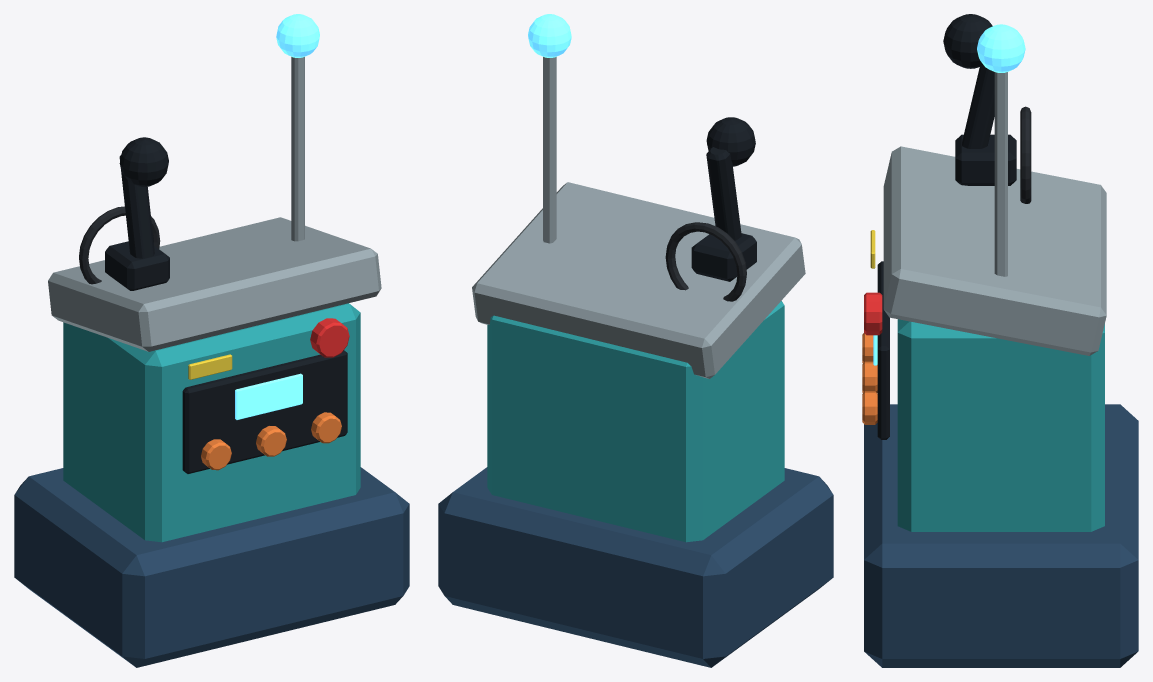
Rendered from helm-radio-task-console.glb.
3 renders of one model, left to right at view 1: azimuth 30°, elevation 25°; view 2: azimuth 150°, elevation 25°; view 3: azimuth 270°, elevation 25°, orthographic. The views are drawn at different scales.
Parts seen in each view (by area): view 1: LP_HELM_CONSOLE_BASE, LP_HELM_CONSOLE_PEDESTAL, LP_HELM_CONSOLE_SLOPED_PANEL, LP_HELM_CONSOLE_RADIO_PANEL, LP_HELM_CONSOLE_MAST, LP_HELM_CONSOLE_MIC_DOCK, LP_HELM_CONSOLE_RADIO_SCREEN, LP_HELM_CONSOLE_MIC_HANDLE, LP_HELM_CONSOLE_MIC_HEAD, LP_HELM_CONSOLE_MAST_LAMP, LP_HELM_CONSOLE_TASK_BUTTON, LP_HELM_CONSOLE_MIC_CABLE (+4 smaller); view 2: LP_HELM_CONSOLE_PEDESTAL, LP_HELM_CONSOLE_BASE, LP_HELM_CONSOLE_SLOPED_PANEL, LP_HELM_CONSOLE_MAST, LP_HELM_CONSOLE_MIC_HANDLE, LP_HELM_CONSOLE_MIC_DOCK, LP_HELM_CONSOLE_MIC_CABLE, LP_HELM_CONSOLE_MIC_HEAD, LP_HELM_CONSOLE_MAST_LAMP; view 3: LP_HELM_CONSOLE_BASE, LP_HELM_CONSOLE_PEDESTAL, LP_HELM_CONSOLE_SLOPED_PANEL, LP_HELM_CONSOLE_MAST, LP_HELM_CONSOLE_MIC_DOCK, LP_HELM_CONSOLE_MIC_HANDLE, LP_HELM_CONSOLE_MAST_LAMP, LP_HELM_CONSOLE_MIC_HEAD, LP_HELM_CONSOLE_RADIO_PANEL, LP_HELM_CONSOLE_MIC_CABLE, LP_HELM_CONSOLE_TASK_BUTTON, LP_HELM_CONSOLE_RADIO_KNOB_3 (+1 smaller).
Part boxes in pixels (<box>): LP_HELM_CONSOLE_BASE: <box>14,467,409,667</box>; LP_HELM_CONSOLE_PEDESTAL: <box>63,303,360,542</box>; LP_HELM_CONSOLE_SLOPED_PANEL: <box>48,217,381,351</box>; LP_HELM_CONSOLE_RADIO_PANEL: <box>182,350,347,473</box>; LP_HELM_CONSOLE_MAST: <box>291,57,304,241</box>; LP_HELM_CONSOLE_MIC_DOCK: <box>105,241,169,290</box>; LP_HELM_CONSOLE_RADIO_SCREEN: <box>235,373,302,419</box>; LP_HELM_CONSOLE_MIC_HANDLE: <box>119,155,154,258</box>; LP_HELM_CONSOLE_MIC_HEAD: <box>119,137,168,186</box>; LP_HELM_CONSOLE_MAST_LAMP: <box>276,14,319,57</box>; LP_HELM_CONSOLE_TASK_BUTTON: <box>310,318,349,357</box>; LP_HELM_CONSOLE_MIC_CABLE: <box>79,206,160,284</box>; LP_HELM_CONSOLE_PEDESTAL: <box>487,301,784,542</box>; LP_HELM_CONSOLE_BASE: <box>438,467,833,667</box>; LP_HELM_CONSOLE_SLOPED_PANEL: <box>472,182,805,378</box>; LP_HELM_CONSOLE_MAST: <box>543,57,556,243</box>; LP_HELM_CONSOLE_MIC_HANDLE: <box>706,147,741,240</box>; LP_HELM_CONSOLE_MIC_DOCK: <box>691,233,756,281</box>; LP_HELM_CONSOLE_MIC_CABLE: <box>665,222,746,301</box>; LP_HELM_CONSOLE_MIC_HEAD: <box>706,117,755,166</box>; LP_HELM_CONSOLE_MAST_LAMP: <box>528,14,571,57</box>; LP_HELM_CONSOLE_BASE: <box>864,404,1138,667</box>; LP_HELM_CONSOLE_PEDESTAL: <box>897,319,1104,531</box>; LP_HELM_CONSOLE_SLOPED_PANEL: <box>883,146,1106,355</box>; LP_HELM_CONSOLE_MAST: <box>994,72,1007,276</box>; LP_HELM_CONSOLE_MIC_DOCK: <box>955,134,1016,185</box>; LP_HELM_CONSOLE_MIC_HANDLE: <box>962,65,994,148</box>; LP_HELM_CONSOLE_MAST_LAMP: <box>977,24,1025,72</box>; LP_HELM_CONSOLE_MIC_HEAD: <box>943,14,992,68</box>; LP_HELM_CONSOLE_RADIO_PANEL: <box>877,261,889,439</box>; LP_HELM_CONSOLE_MIC_CABLE: <box>1020,106,1031,203</box>; LP_HELM_CONSOLE_TASK_BUTTON: <box>864,292,882,335</box>; LP_HELM_CONSOLE_RADIO_KNOB_3: <box>862,391,877,424</box>.
Bounding box in the file's own units: 1.2 × 2.23 × 0.905.
